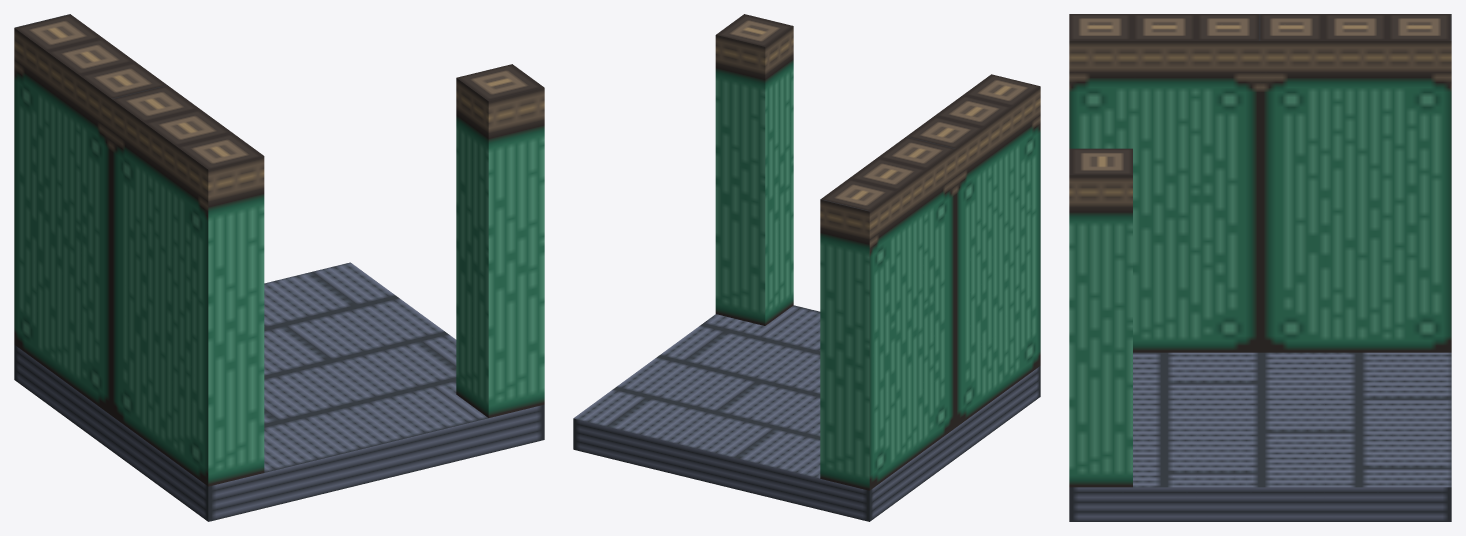
File: 1_wall_1_edge.FBX
3 views of the same model, side by side, from view 1: azimuth 30°, elevation 25°; view 2: azimuth 150°, elevation 25°; view 3: azimuth 270°, elevation 25° (orthographic). The views are drawn at different scales.
Visible parts, largest first — view 1: Object000_Element202; view 2: Object000_Element202; view 3: Object000_Element202.
Boxes of the visible parts, bbox=[...] form: Object000_Element202: bbox=[14, 14, 544, 521]; Object000_Element202: bbox=[573, 14, 1040, 521]; Object000_Element202: bbox=[1069, 14, 1451, 521].
Size of the model in its own units: 100 by 100 by 100.
